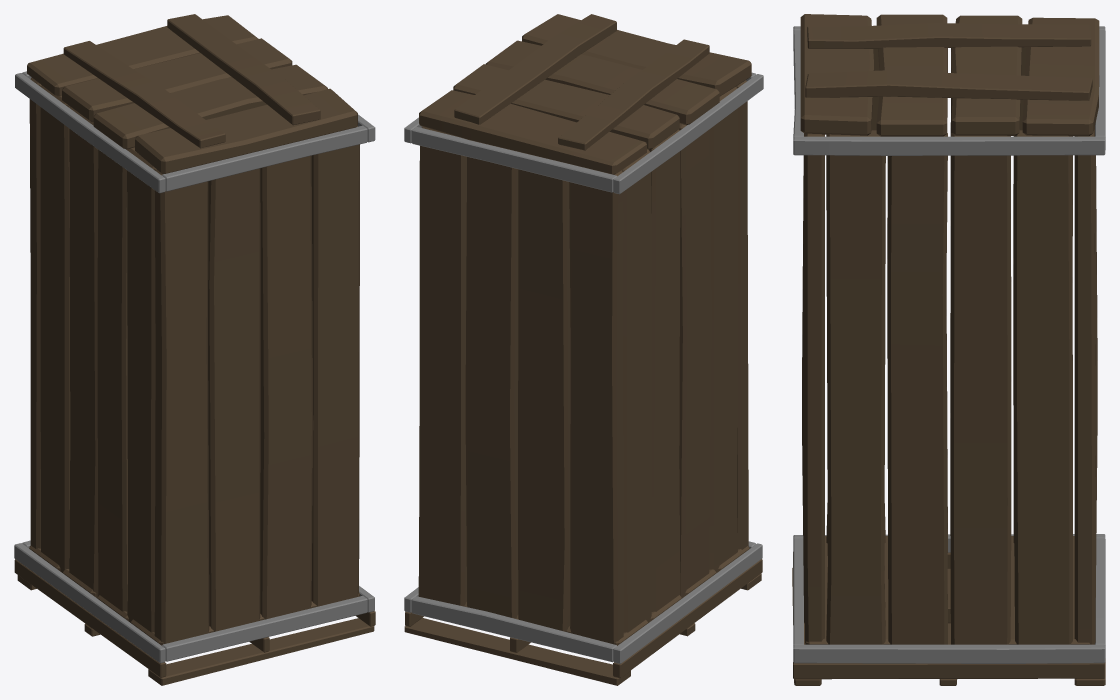
File: Box_Tall_LP.fbx
3 views of the same model, side by side, from view 1: azimuth 30°, elevation 25°; view 2: azimuth 150°, elevation 25°; view 3: azimuth 270°, elevation 25° (orthographic). The views are drawn at different scales.
Visible parts, largest first — view 1: Box_Tall_LP; view 2: Box_Tall_LP; view 3: Box_Tall_LP.
Boxes of the visible parts, x1,y1,x2,y2 form: Box_Tall_LP: [14, 14, 375, 685]; Box_Tall_LP: [404, 14, 763, 685]; Box_Tall_LP: [792, 14, 1105, 685].
Size of the model in its own units: 166 by 389 by 191.
